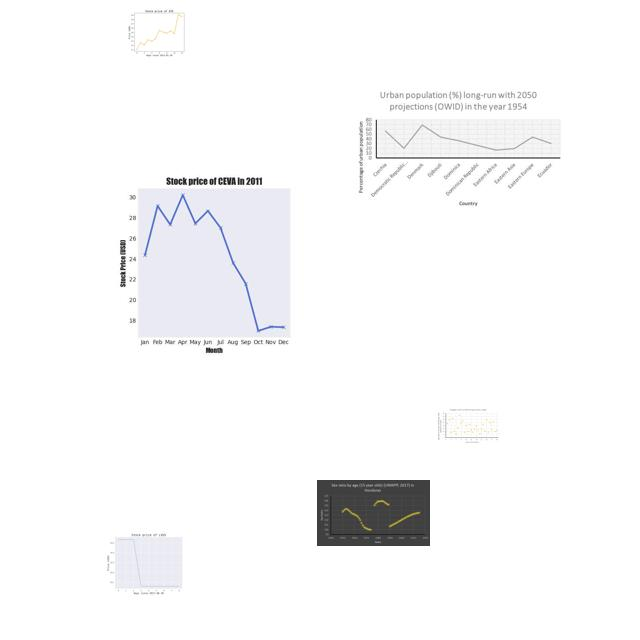Graph: (82, 165, 340, 359), (355, 88, 563, 209), (317, 480, 430, 546), (99, 529, 196, 596), (125, 7, 192, 57), (436, 408, 500, 444)
